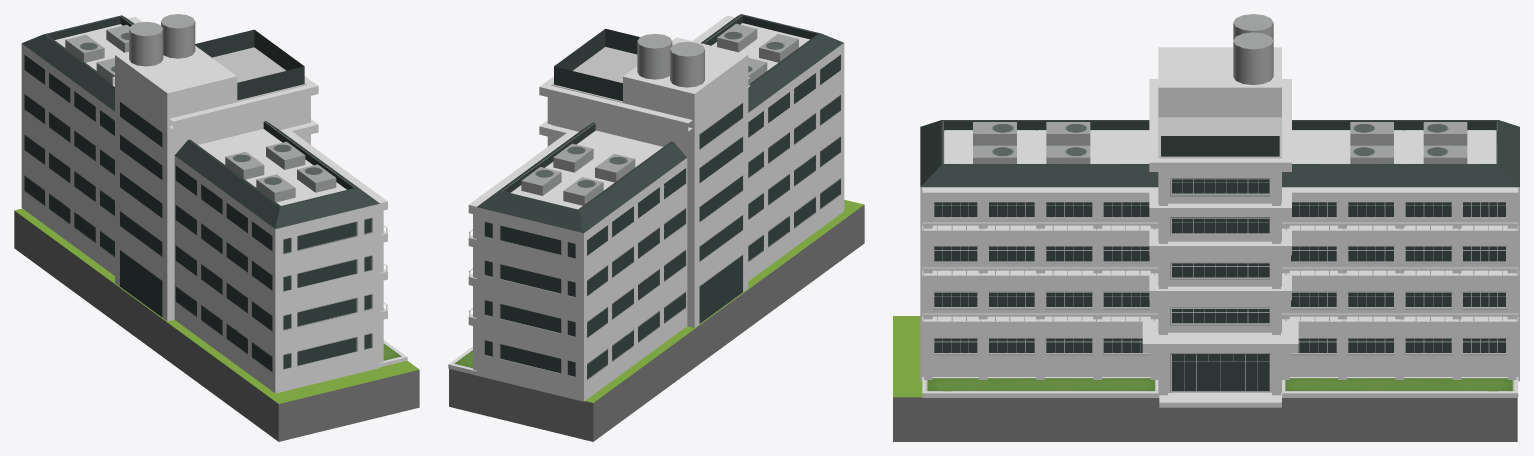
File: building01.dae
3 views of the same model, side by side, from view 1: azimuth 30°, elevation 25°; view 2: azimuth 150°, elevation 25°; view 3: azimuth 270°, elevation 25° (orthographic). The views are drawn at different scales.
Parts seen in each view (by area): view 1: base_b103, b101, base_b103_ncl1_1, ground01, b01fcence, polySurface9, tank02, tank01, b103_balcony4, compressor02, compressor04, compressor01 (+5 smaller); view 2: base_b103_ncl1_1, b101, base_b103, ground01, b01fcence, polySurface9, tank02, tank01, b103_balcony4_ncl1_1, compressor02_ncl1_1, compressor04_ncl1_1, compressor04 (+5 smaller); view 3: base_b103, base_b103_ncl1_1, ground01, b101, brush_base02_ncl1_1, brush_base02, b103_balcony2, b103_balcony2_ncl1_1, b103_balcony3, b103_balcony3_ncl1_1, b103_balcony1_ncl1_1, b103_balcony1 (+34 smaller).
Boxes of the visible parts, x1,y1,x2,y2 form: base_b103: [174, 121, 379, 393]; b101: [115, 46, 306, 321]; base_b103_ncl1_1: [21, 15, 134, 275]; ground01: [14, 208, 419, 441]; b01fcence: [195, 29, 304, 100]; polySurface9: [112, 76, 318, 129]; tank02: [129, 21, 163, 66]; tank01: [161, 14, 195, 58]; b103_balcony4: [280, 128, 387, 211]; compressor02: [266, 141, 305, 169]; compressor04: [297, 164, 336, 192]; compressor01: [225, 151, 264, 179]; base_b103_ncl1_1: [476, 122, 687, 401]; b101: [551, 37, 748, 327]; base_b103: [701, 14, 844, 280]; ground01: [449, 199, 864, 441]; b01fcence: [554, 28, 639, 101]; polySurface9: [539, 76, 750, 131]; tank02: [670, 41, 704, 87]; tank01: [637, 33, 672, 79]; b103_balcony4_ncl1_1: [468, 130, 578, 214]; compressor02_ncl1_1: [553, 143, 593, 172]; compressor04_ncl1_1: [521, 167, 561, 195]; compressor04: [717, 23, 757, 52]; base_b103: [920, 120, 1158, 381]; base_b103_ncl1_1: [1282, 120, 1519, 381]; ground01: [893, 316, 1517, 441]; b101: [1158, 47, 1281, 392]; brush_base02_ncl1_1: [1282, 377, 1518, 397]; brush_base02: [922, 377, 1159, 397]; b103_balcony2: [922, 267, 1158, 284]; b103_balcony2_ncl1_1: [1282, 267, 1518, 284]; b103_balcony3: [922, 222, 1158, 239]; b103_balcony3_ncl1_1: [1282, 222, 1518, 239]; b103_balcony1_ncl1_1: [1282, 313, 1518, 330]; b103_balcony1: [922, 313, 1158, 330].
Bounding box in the file's own units: 9.19 × 16.23 × 26.35.
